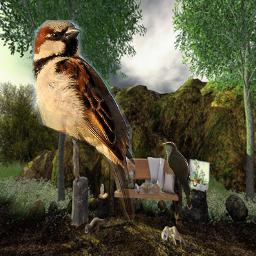Cuckoo: (159, 141, 193, 210)
Swallow: (30, 20, 135, 222)
